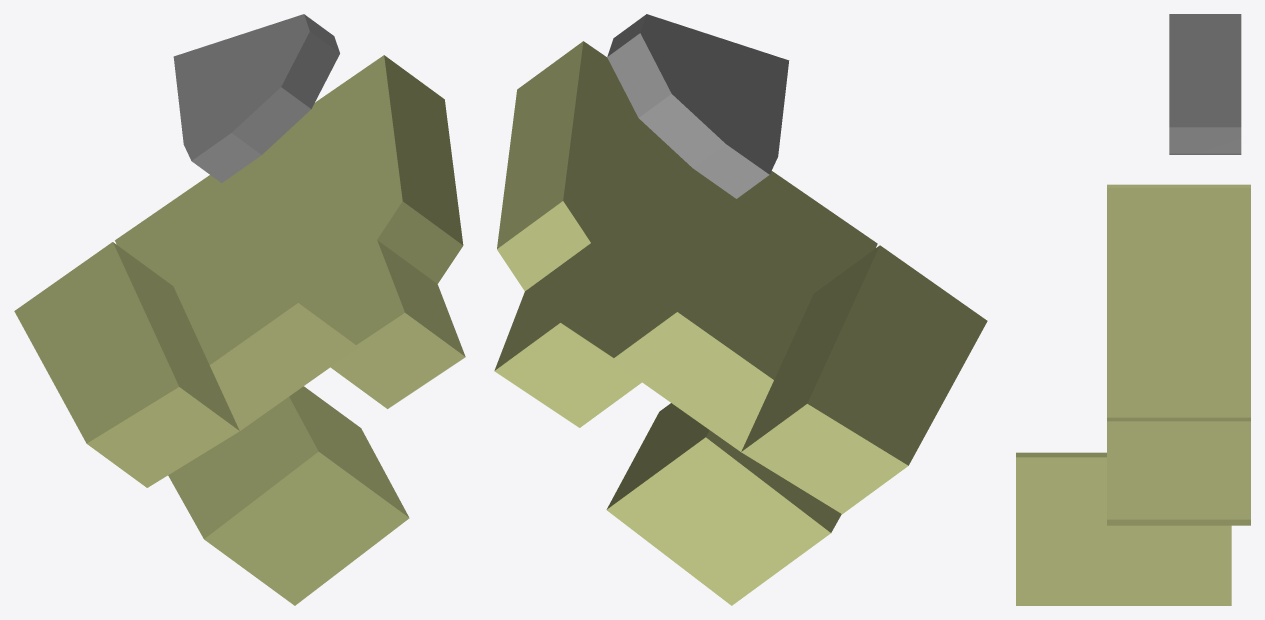
3 views of the same model, side by side, from view 1: azimuth 30°, elevation 25°; view 2: azimuth 150°, elevation 25°; view 3: azimuth 270°, elevation 25° (orthographic). The views are drawn at different scales.
Visible parts, largest first — view 1: 0_1_0_2_1_3_1_3_3_3; view 2: 0_1_0_2_1_3_1_3_3_3; view 3: 0_1_0_2_1_3_1_3_3_3.
Part boxes in pixels (x1=…): 0_1_0_2_1_3_1_3_3_3: x1=14, y1=14, x2=465, y2=605; 0_1_0_2_1_3_1_3_3_3: x1=494, y1=14, x2=987, y2=605; 0_1_0_2_1_3_1_3_3_3: x1=1016, y1=14, x2=1250, y2=605.
Bounding box in the file's own units: 22.32 × 27.13 × 9.8.
